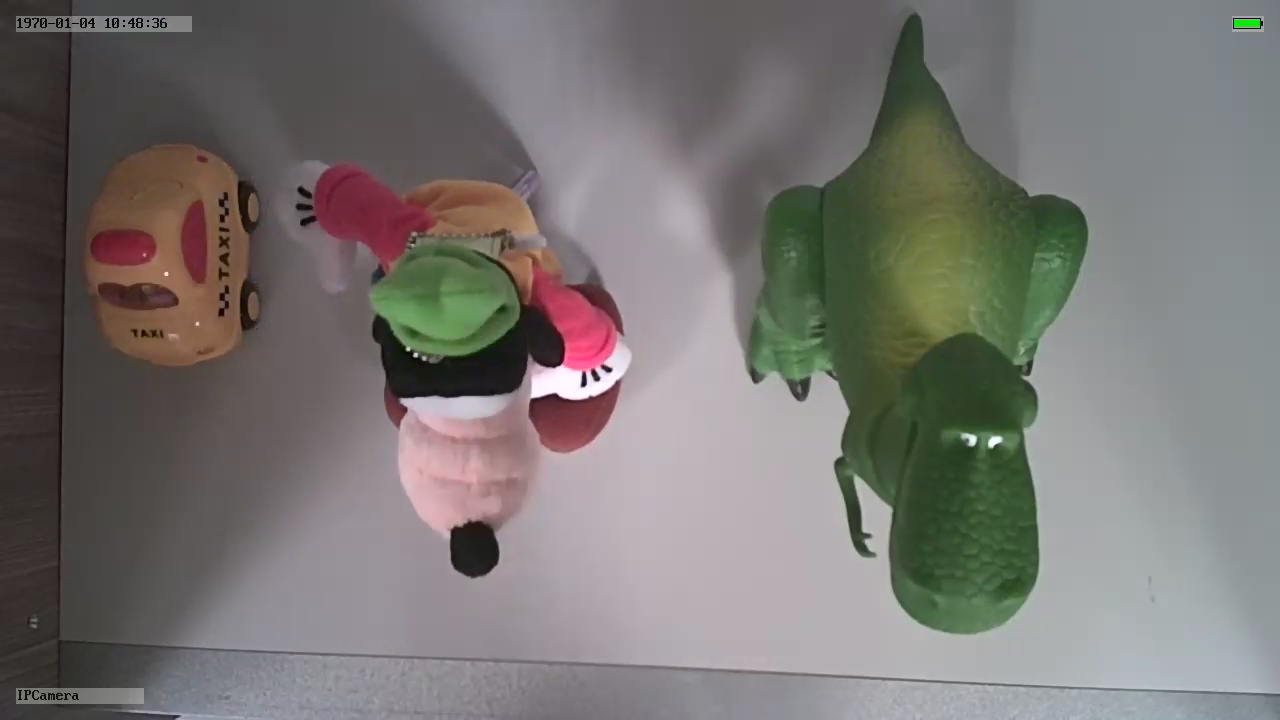goofy: (264, 156, 633, 581)
